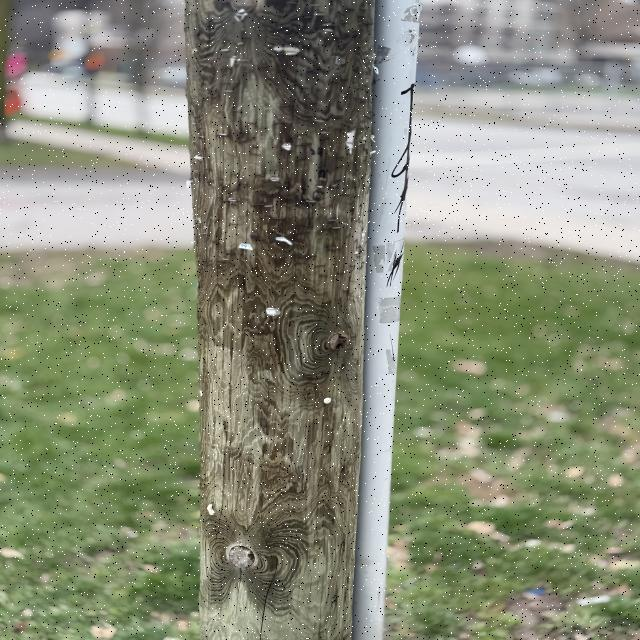Electrical Pole: (170, 2, 380, 640)
